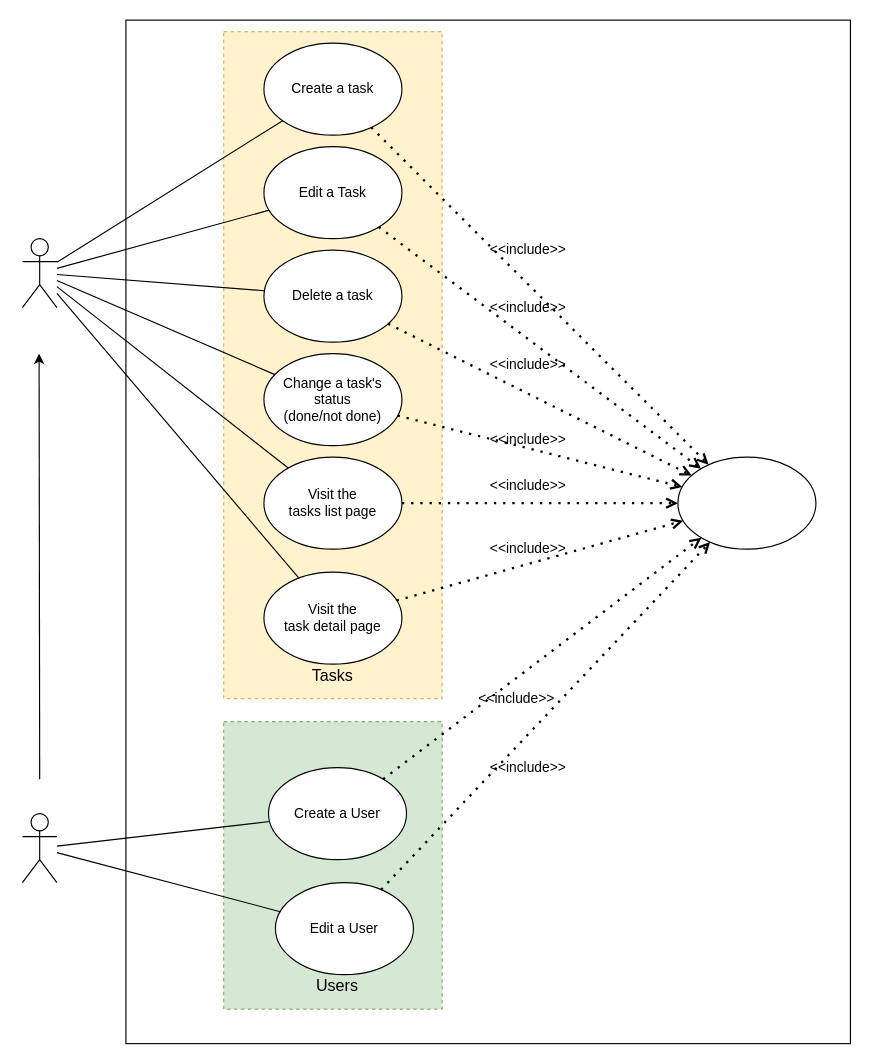
The diagram is 871 pixels wide and 1064 high, and some of its shapes have lost their labels. The box of each missing label's shape, as (x1, y1, x2, y2) in pixels:
Admin: (21, 812, 57, 883)
Login: (677, 456, 816, 549)
User: (21, 237, 57, 308)
